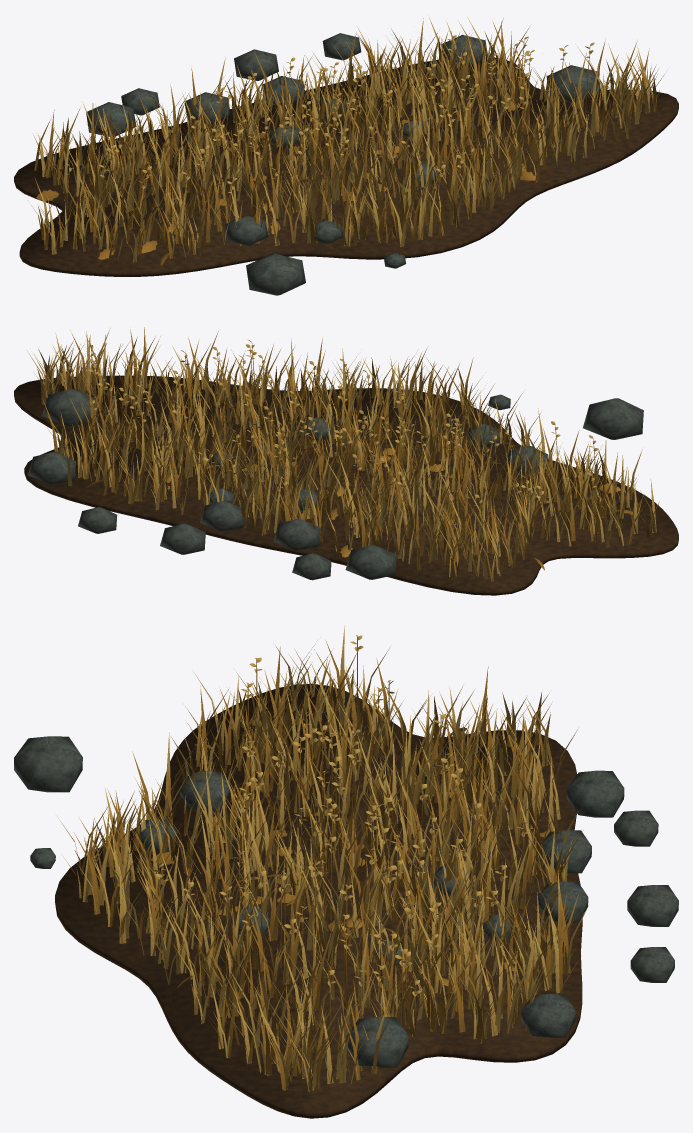
File: 08_grass_patch_v3_autumn.glb
The picture shows the model from 3 angles, top to bottom: view 1: azimuth 30°, elevation 25°; view 2: azimuth 150°, elevation 25°; view 3: azimuth 270°, elevation 25°; orthographic projection. The views are drawn at different scales.
Visible parts, largest first — view 1: Ground cover variant | modeled grass blades.001, Ground cover variant | irregular closed earth patch.001, 08_grass_patch_v3_autumn | Hill | weathered slate, Ground cover variant | wildflowers or seed heads.001; view 2: Ground cover variant | modeled grass blades.001, Ground cover variant | irregular closed earth patch.001, 08_grass_patch_v3_autumn | Hill | weathered slate, Ground cover variant | wildflowers or seed heads.001; view 3: Ground cover variant | modeled grass blades.001, Ground cover variant | irregular closed earth patch.001, 08_grass_patch_v3_autumn | Hill | weathered slate, Ground cover variant | wildflowers or seed heads.001.
Part boxes in pixels (x1,y1,x2,y2): Ground cover variant | modeled grass blades.001: [31, 17, 664, 262]; Ground cover variant | irregular closed earth patch.001: [14, 57, 678, 276]; 08_grass_patch_v3_autumn | Hill | weathered slate: [86, 33, 601, 295]; Ground cover variant | wildflowers or seed heads.001: [36, 35, 594, 265]; Ground cover variant | modeled grass blades.001: [27, 327, 659, 582]; Ground cover variant | irregular closed earth patch.001: [14, 375, 678, 595]; 08_grass_patch_v3_autumn | Hill | weathered slate: [28, 389, 643, 580]; Ground cover variant | wildflowers or seed heads.001: [86, 339, 638, 570]; Ground cover variant | modeled grass blades.001: [57, 626, 588, 1091]; Ground cover variant | irregular closed earth patch.001: [55, 683, 582, 1118]; 08_grass_patch_v3_autumn | Hill | weathered slate: [14, 736, 678, 1067]; Ground cover variant | wildflowers or seed heads.001: [151, 635, 549, 1050].
Bounding box in the file's own units: 5.83 × 0.6674 × 3.82.
4 materials, 4 textured.
